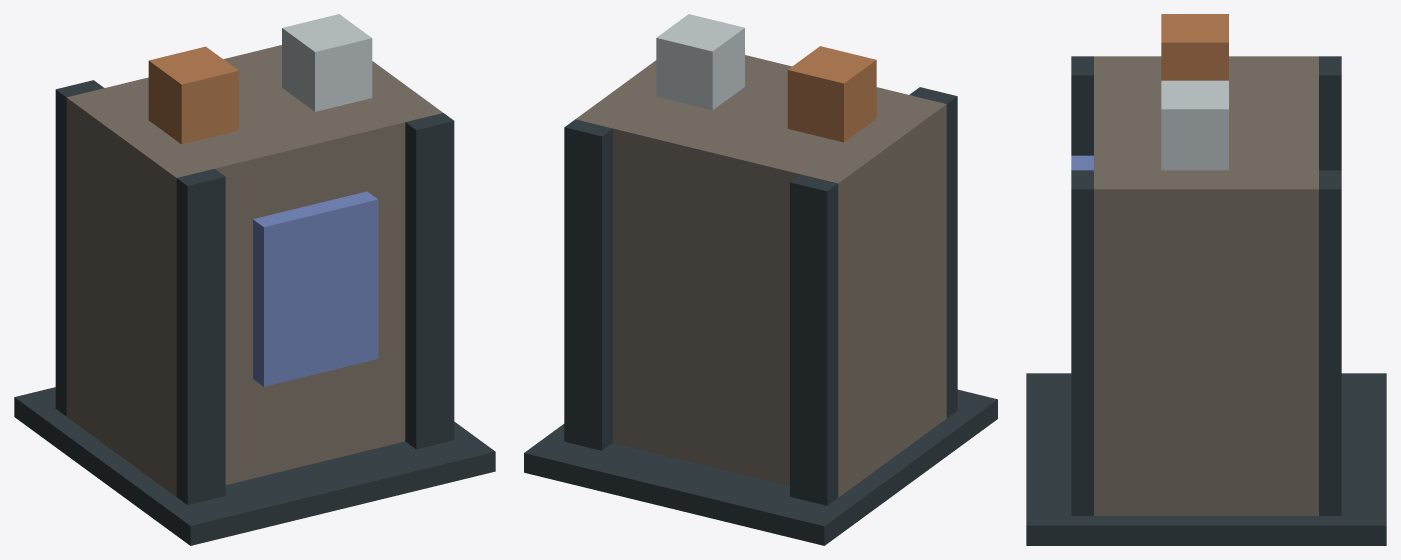
The model's file is battery.glb.
The picture shows the model from 3 angles, left to right: view 1: azimuth 30°, elevation 25°; view 2: azimuth 150°, elevation 25°; view 3: azimuth 270°, elevation 25°; orthographic projection. The views are drawn at different scales.
Parts seen in each view (by area): view 1: battery/housing; view 2: battery/housing; view 3: battery/housing.
Part boxes in pixels (left/top/right/bottom): battery/housing: left=14, top=14, right=495, bottom=545; battery/housing: left=524, top=14, right=997, bottom=545; battery/housing: left=1026, top=14, right=1386, bottom=545.
Bounding box in the file's own units: 0.5 × 0.625 × 0.5.
